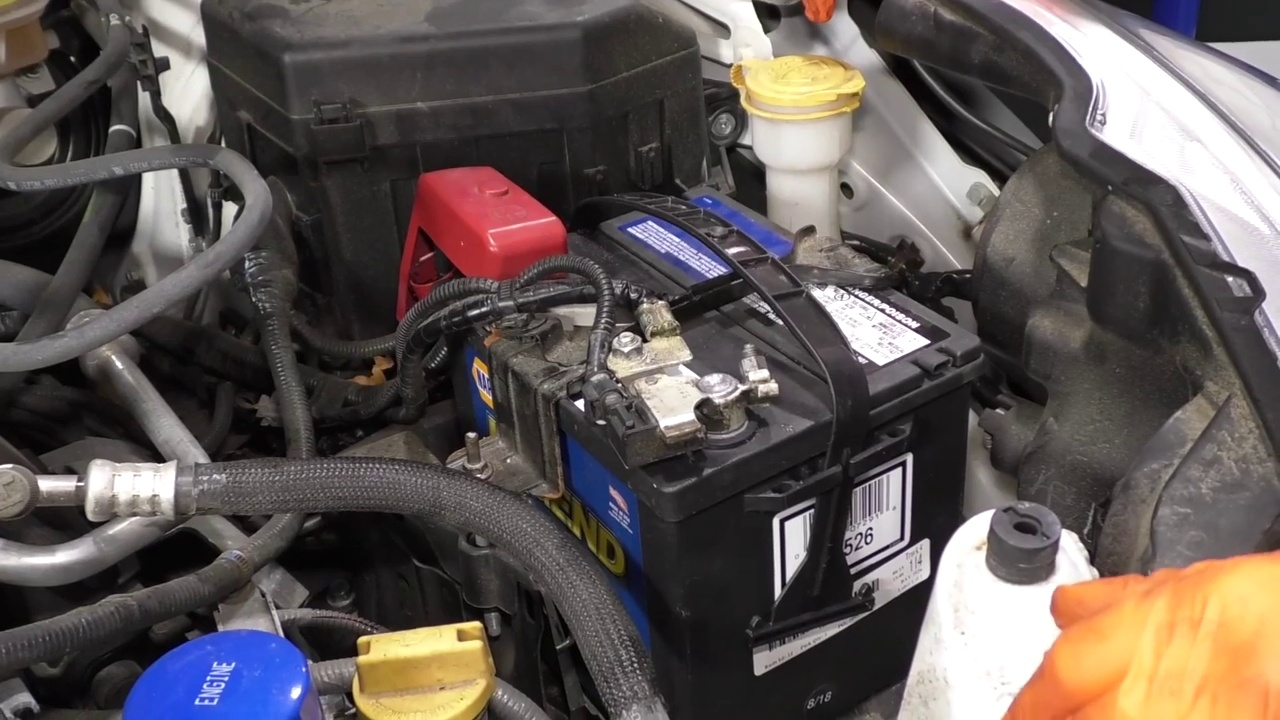battery: (439, 181, 985, 488)
neg_connected: (603, 338, 794, 465)
pos_connected: (380, 158, 583, 345)
